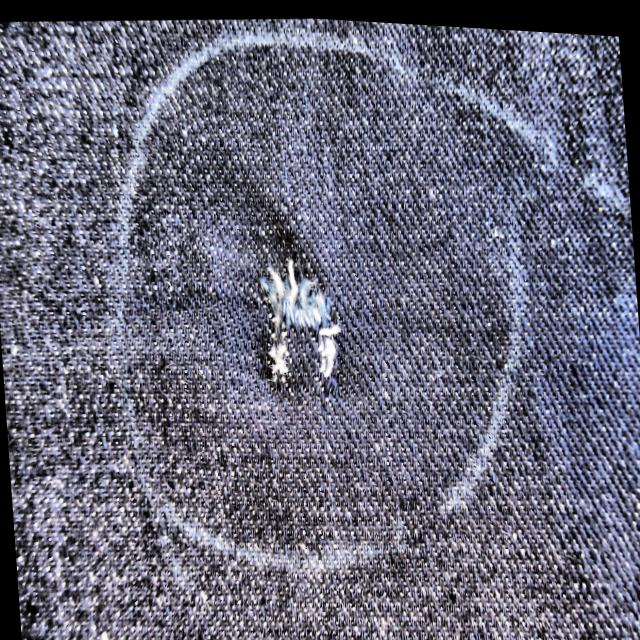Hole: (260, 255, 337, 392)
